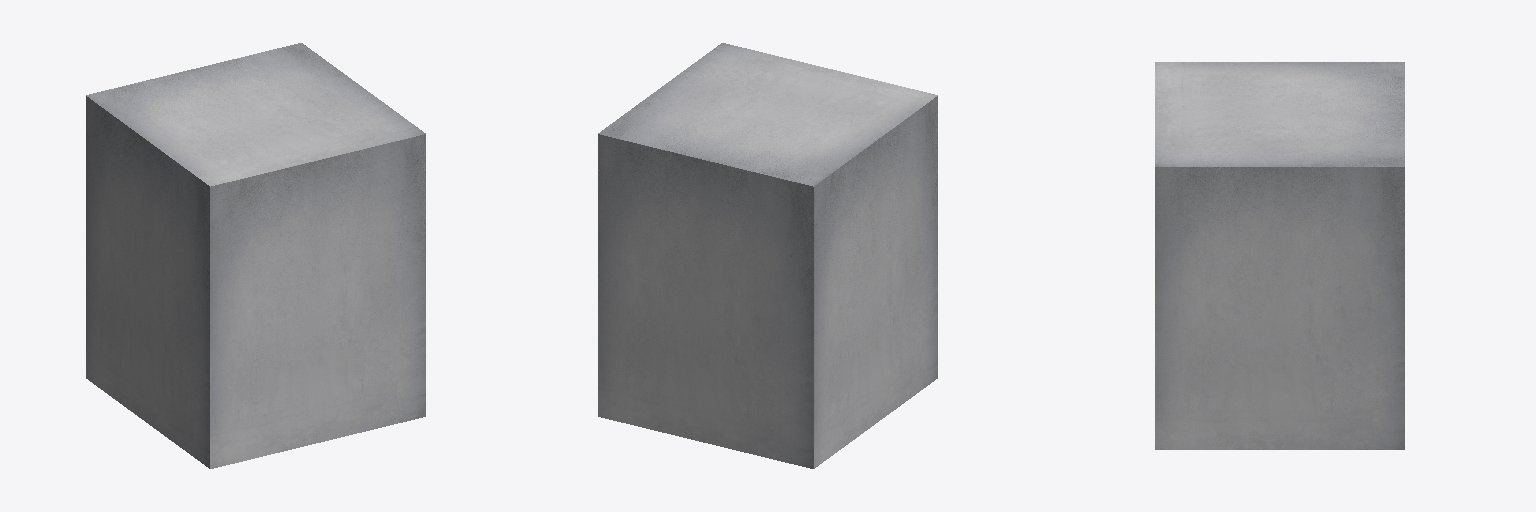
The picture shows the model from 3 angles: view 1: azimuth 30°, elevation 25°; view 2: azimuth 150°, elevation 25°; view 3: azimuth 270°, elevation 25°; orthographic projection.
Visible parts, largest first — view 1: 2x2x2,5.001; view 2: 2x2x2,5.001; view 3: 2x2x2,5.001.
Part boxes in pixels (x1,y1,x2,y2): 2x2x2,5.001: (86,43,425,468); 2x2x2,5.001: (598,43,937,468); 2x2x2,5.001: (1155,62,1404,449).
Size of the model in its own units: 2 by 2.5 by 2.
1 materials, 1 textured.